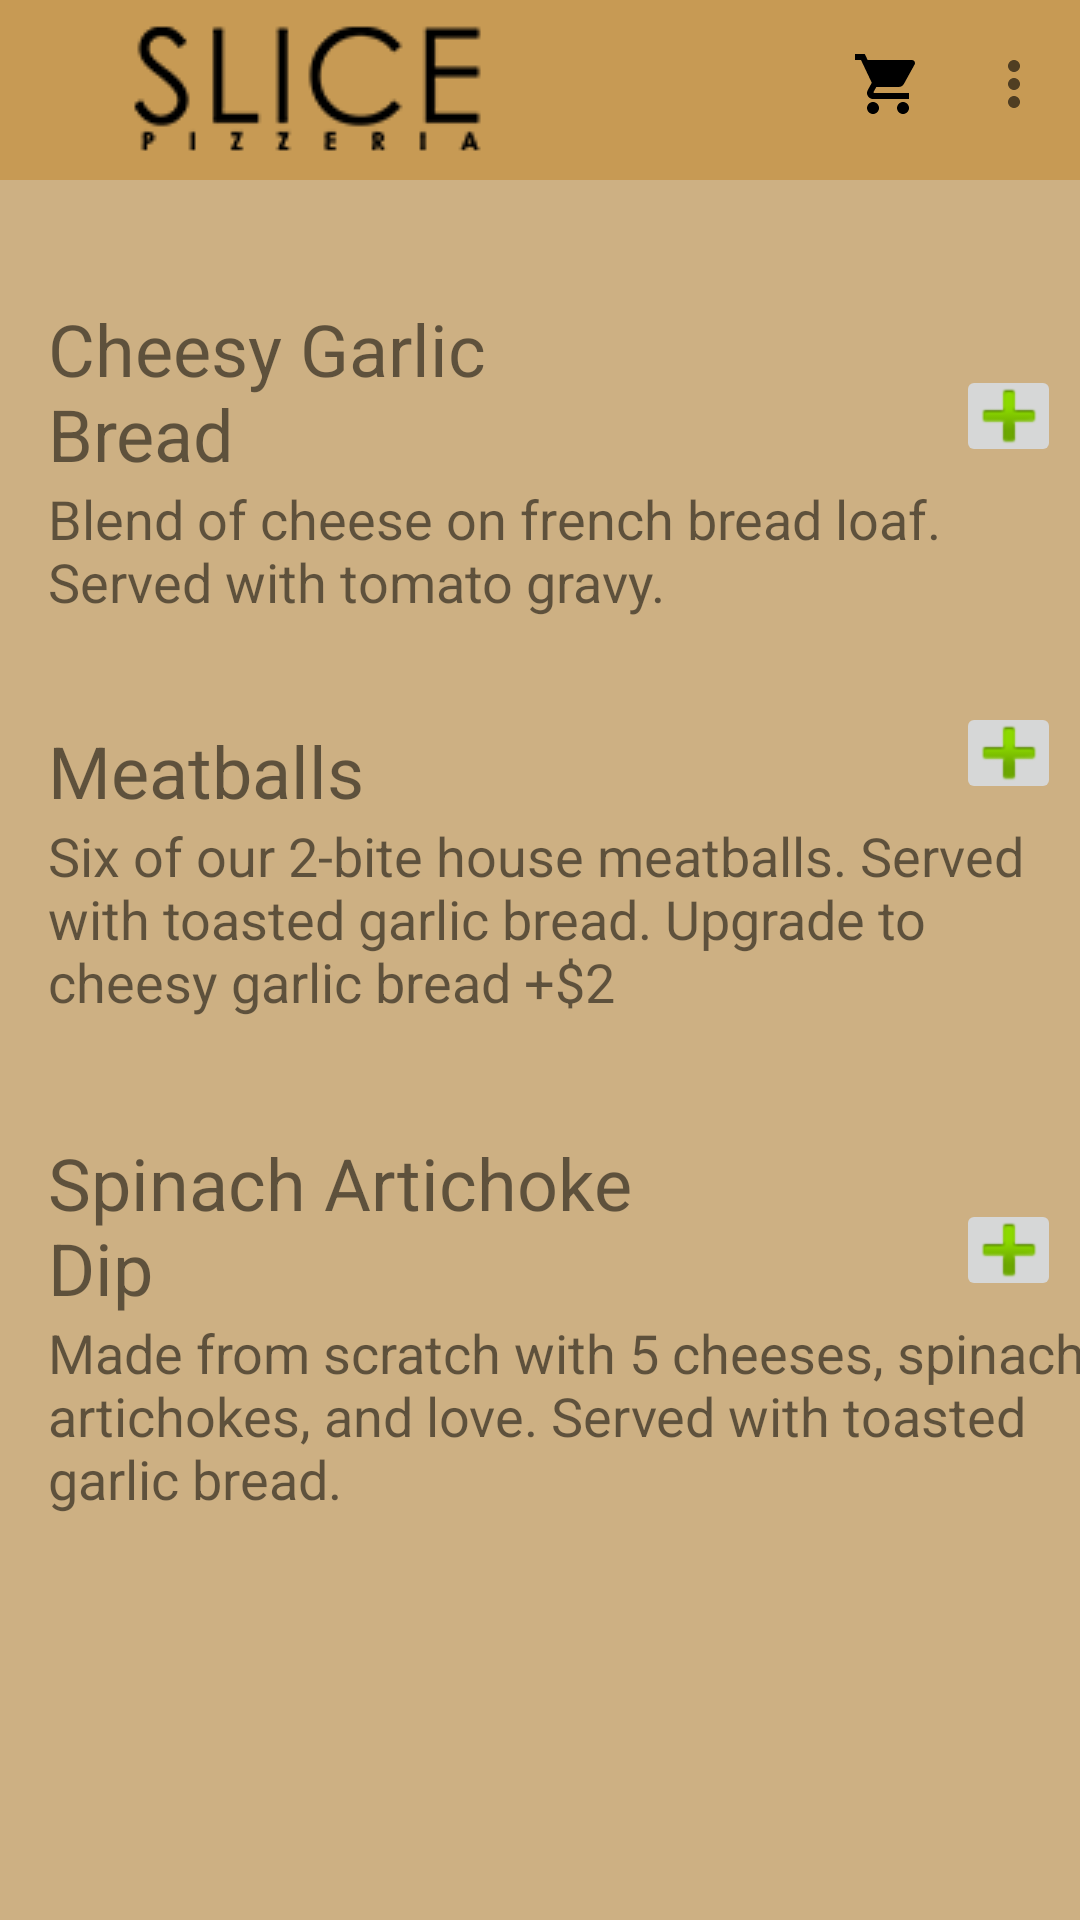

Named icons in this screenshot (1080 x 1920) and their centers, (x=x, y=y):
add: (x=1008, y=416), (x=1008, y=753), (x=1008, y=1250)
